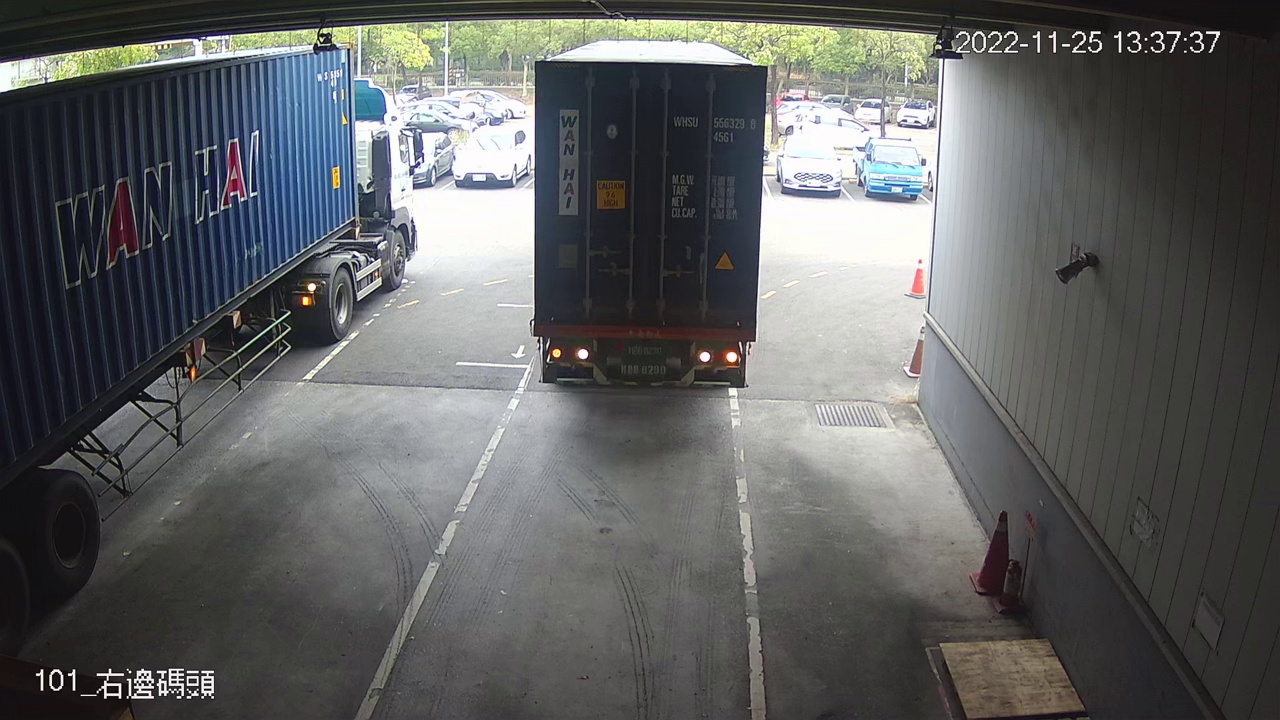container: (670, 106, 760, 147)
